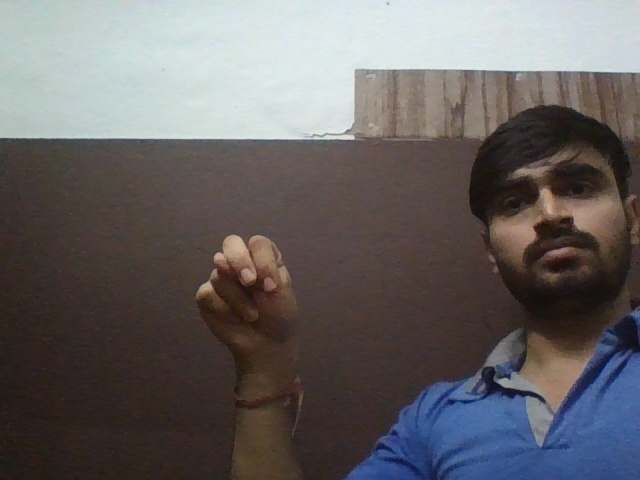M: (187, 229, 308, 349)
